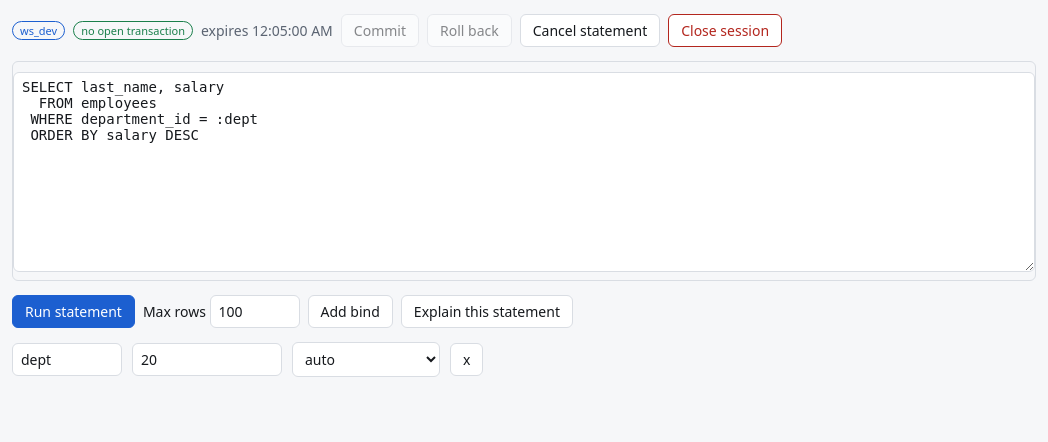
Test case: acting on a session › drops a session the server says is gone when the statement is refused
Expected: the text "ws_dev" is shown, [12, 21, 65, 40]
Click the button "Run statement": {"x": 73, "y": 312} [12, 295, 135, 328]
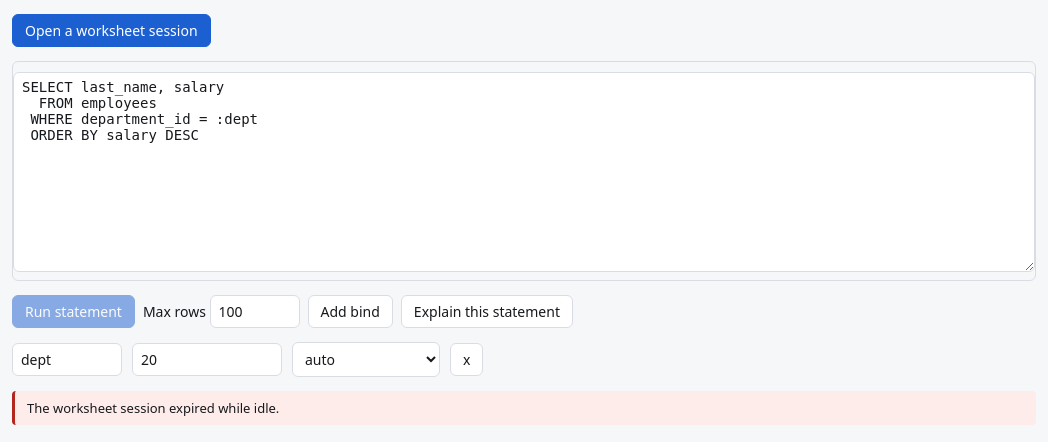
Expected: the text "The worksheet session expired while idle." is shown, [12, 391, 1036, 425]
Expected: the text "ws_dev" is gone
Expected: the button "Commit" is gone
